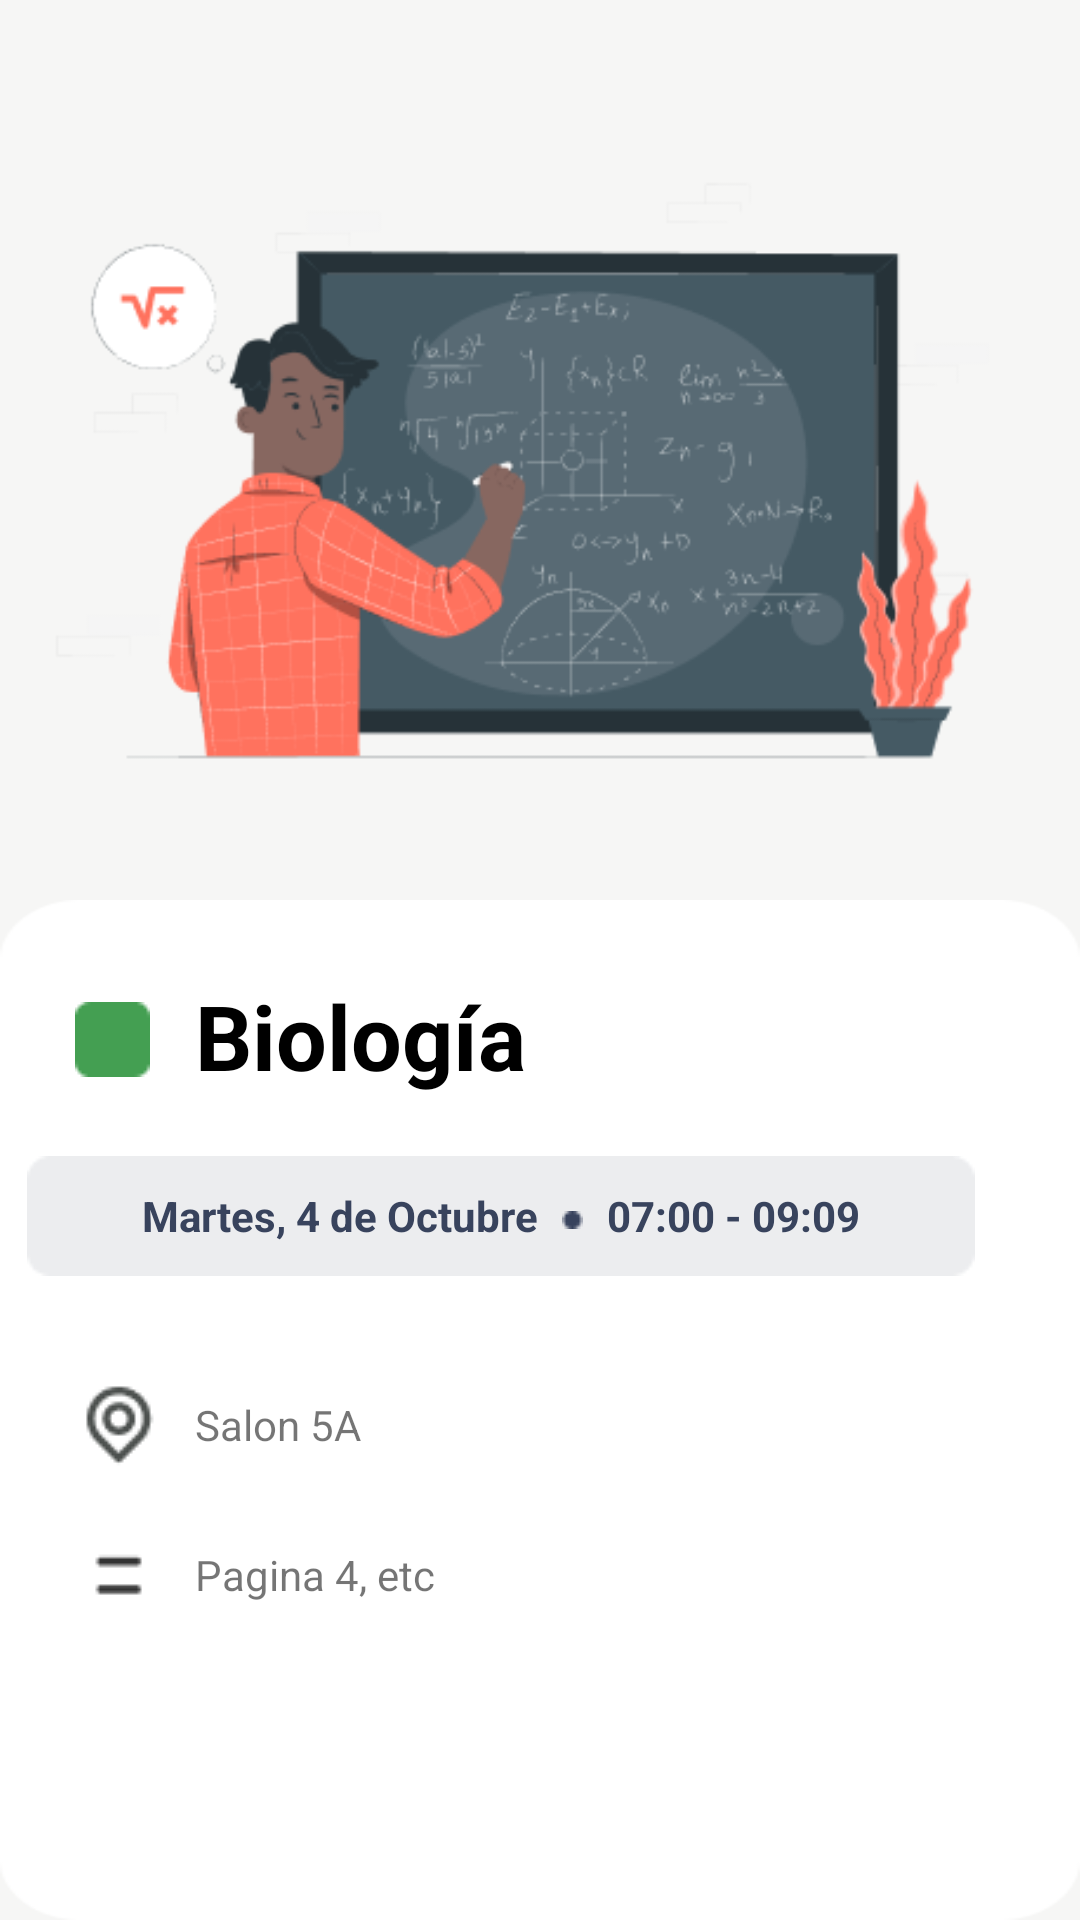

Locate icon controls on the screen. Image size 1080 × 1920, boxes as (x1, y1, x2, y2).
location curso: (86, 1386, 153, 1463)
